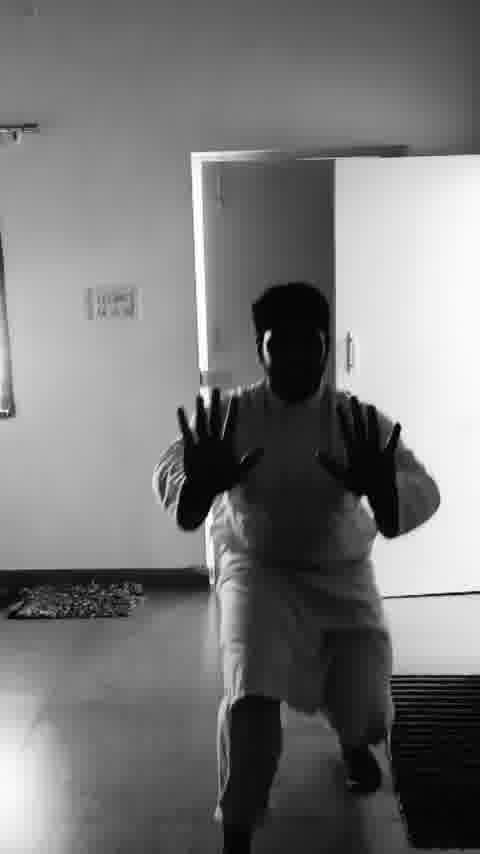duck: (148, 261, 437, 842)
